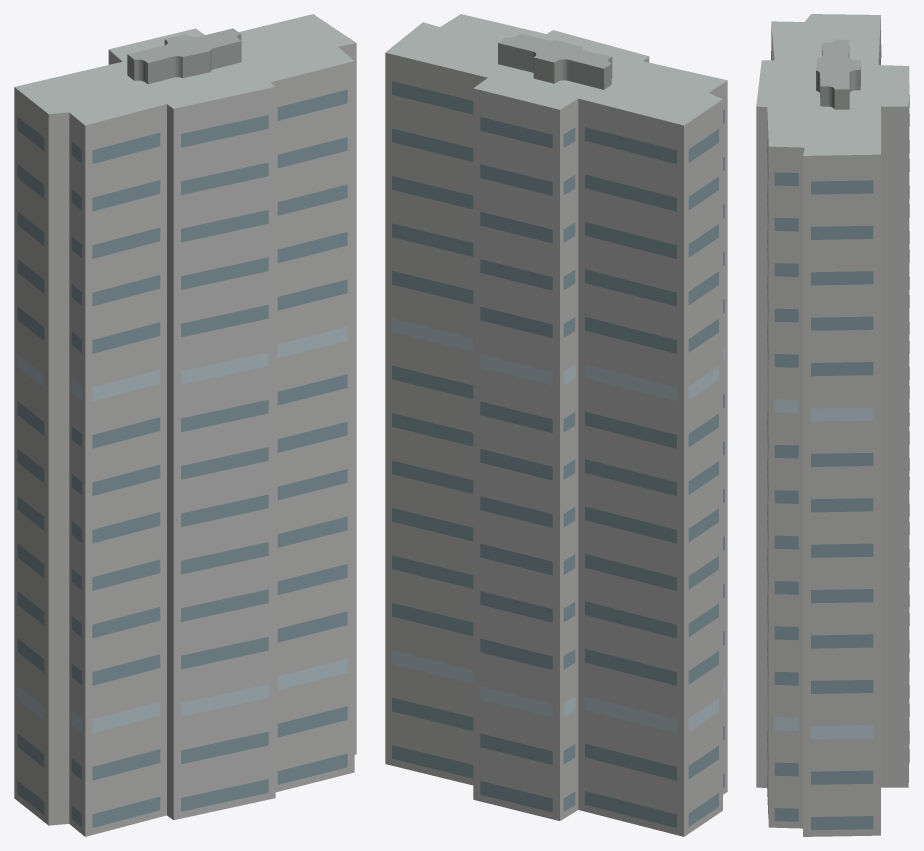
Rendered from fallback-gangdong-lotte-castle-first-112.glb.
3 renders of one model, left to right at view 1: azimuth 30°, elevation 25°; view 2: azimuth 150°, elevation 25°; view 3: azimuth 270°, elevation 25°, orthographic. The views are drawn at different scales.
Parts seen in each view (by area): view 1: fallback-gangdong-lotte-castle-first-112; view 2: fallback-gangdong-lotte-castle-first-112; view 3: fallback-gangdong-lotte-castle-first-112.
Part boxes in pixels (x1,y1,x2,y2): fallback-gangdong-lotte-castle-first-112: [14, 14, 356, 836]; fallback-gangdong-lotte-castle-first-112: [385, 14, 727, 836]; fallback-gangdong-lotte-castle-first-112: [756, 14, 909, 836].
Size of the model in its own units: 36.07 by 83 by 16.48.
